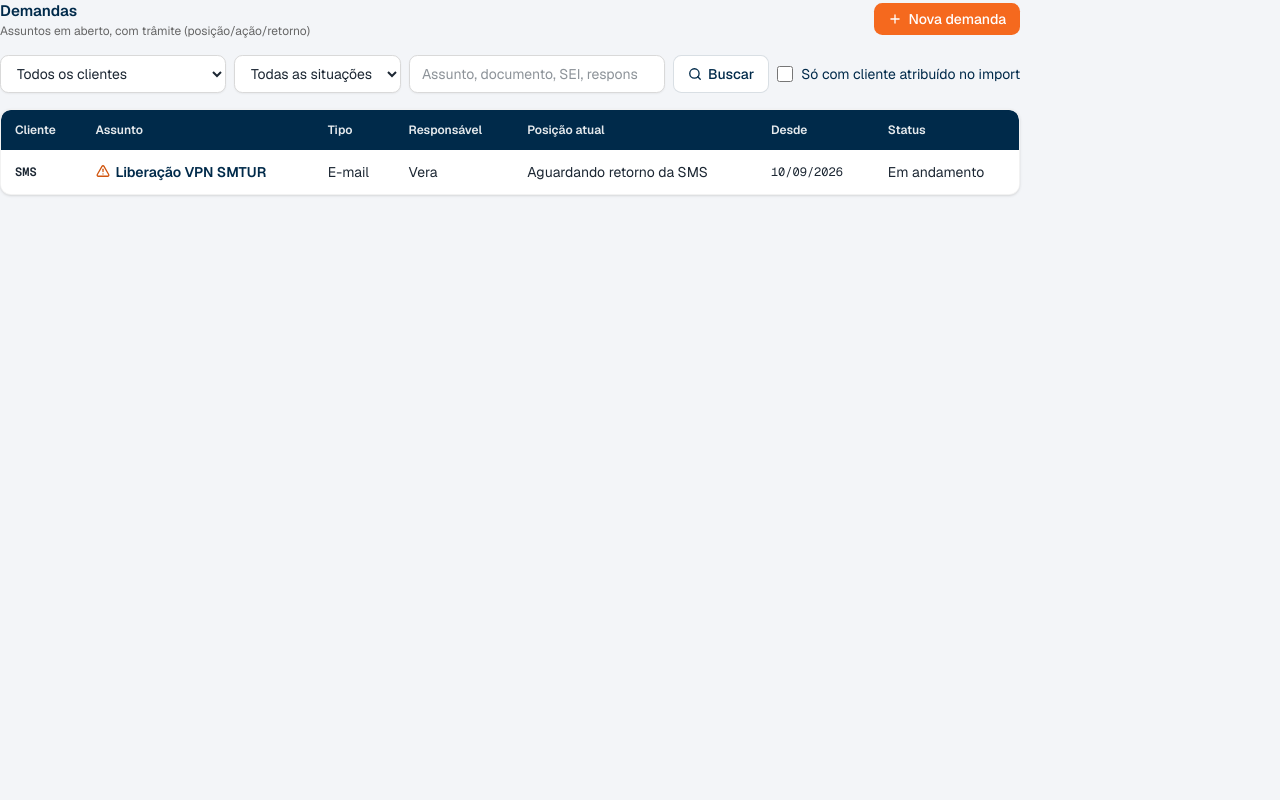
Test: ListaDemandas › na lista geral, a demanda nova pede o cliente e mostra erro da API
Click the button "Nova demanda". click: (947, 19)
box: [874, 3, 1020, 35]
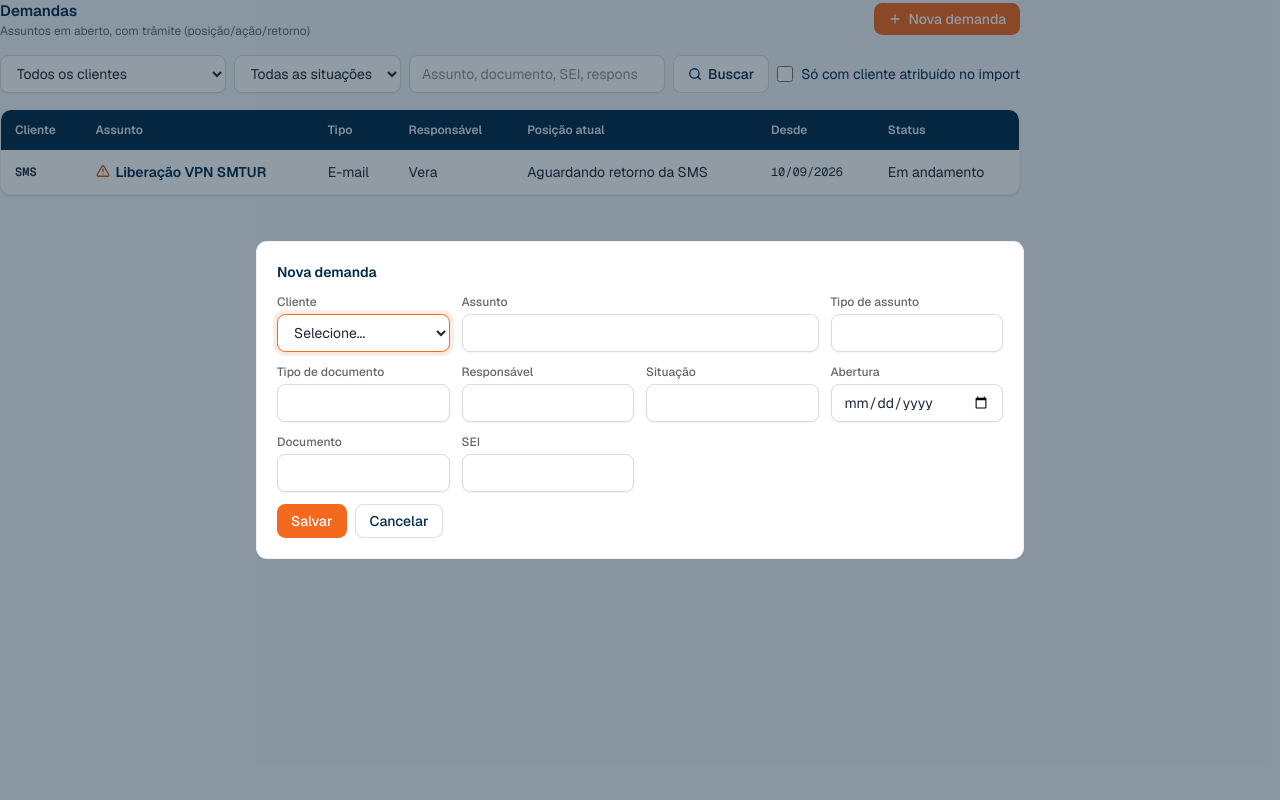
Select "SF — Secretaria da Fazenda" in the dropdown labelled "Cliente". click: (363, 333)
box: [277, 314, 450, 352]
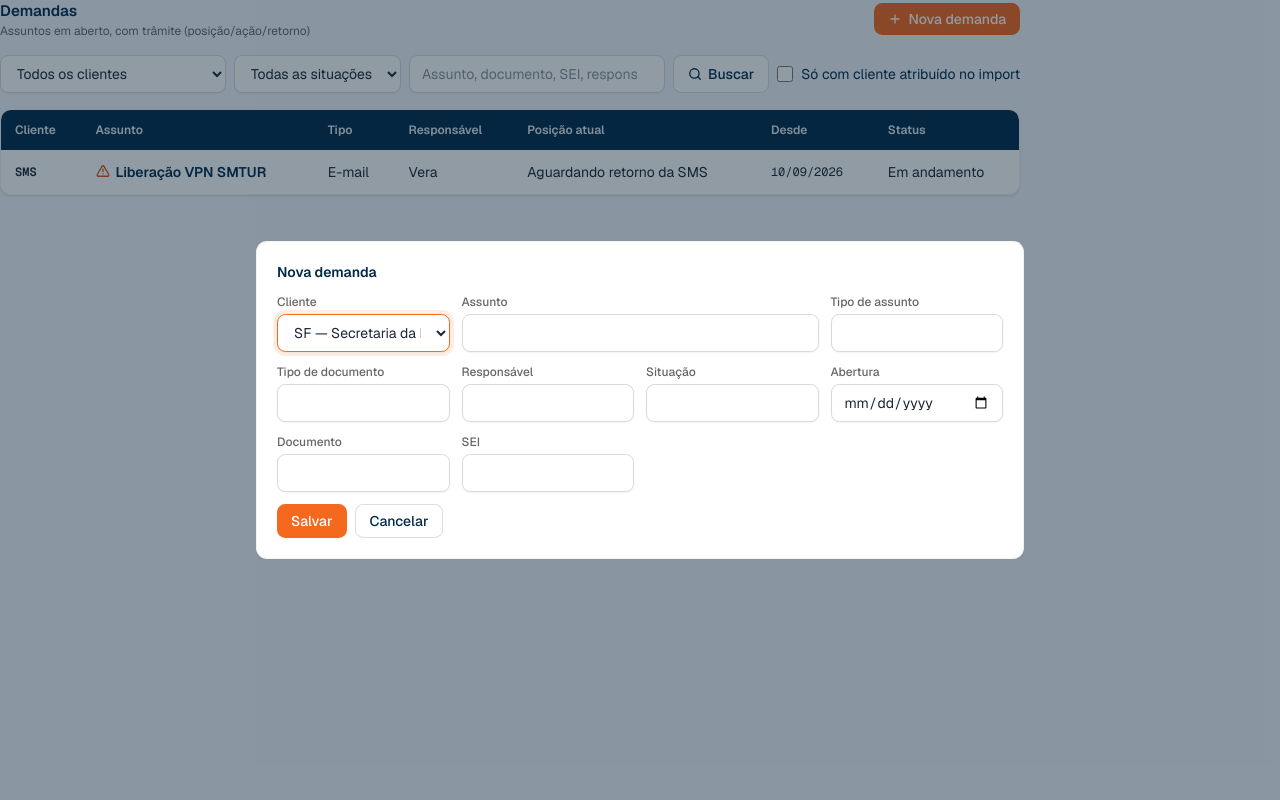
Type "X" into the field labelled "Assunto". click: (640, 333)
box: [462, 314, 818, 352]
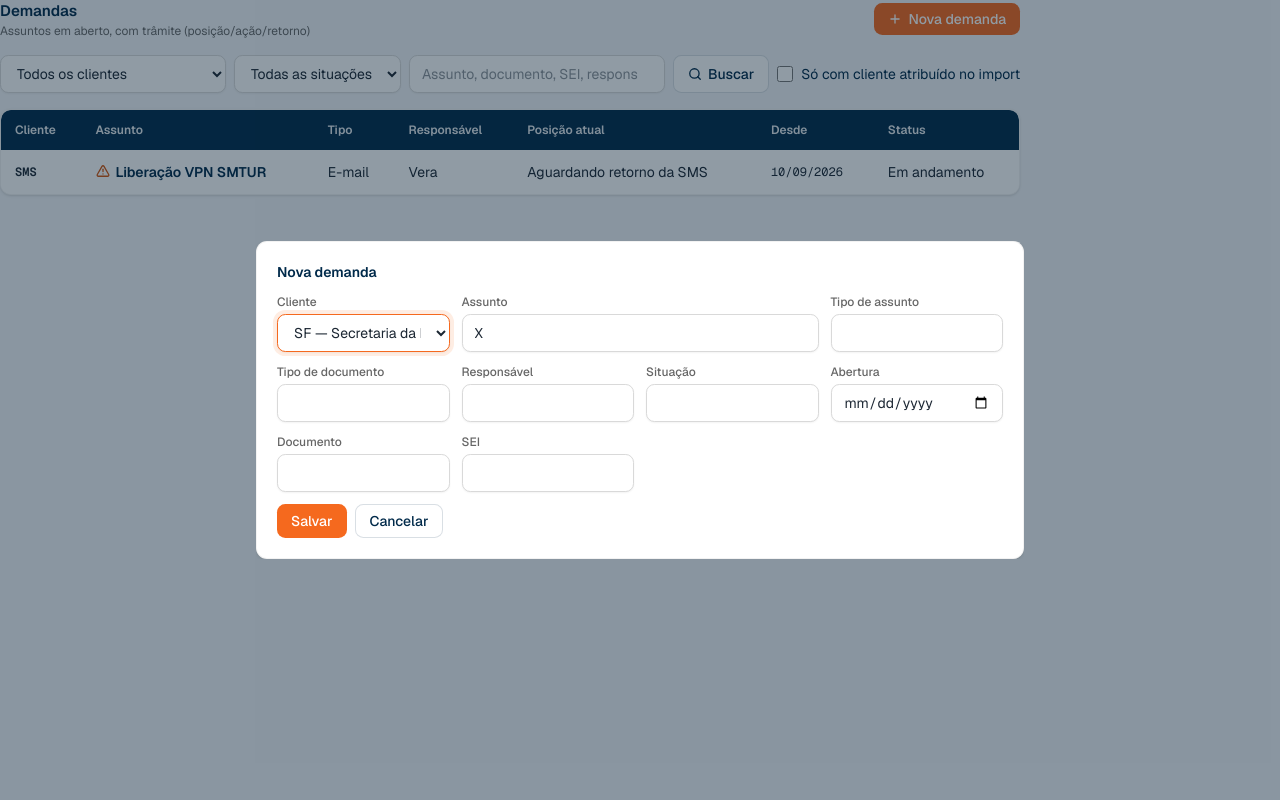
Click the button "Salvar". click: (312, 521)
box: [277, 504, 346, 538]
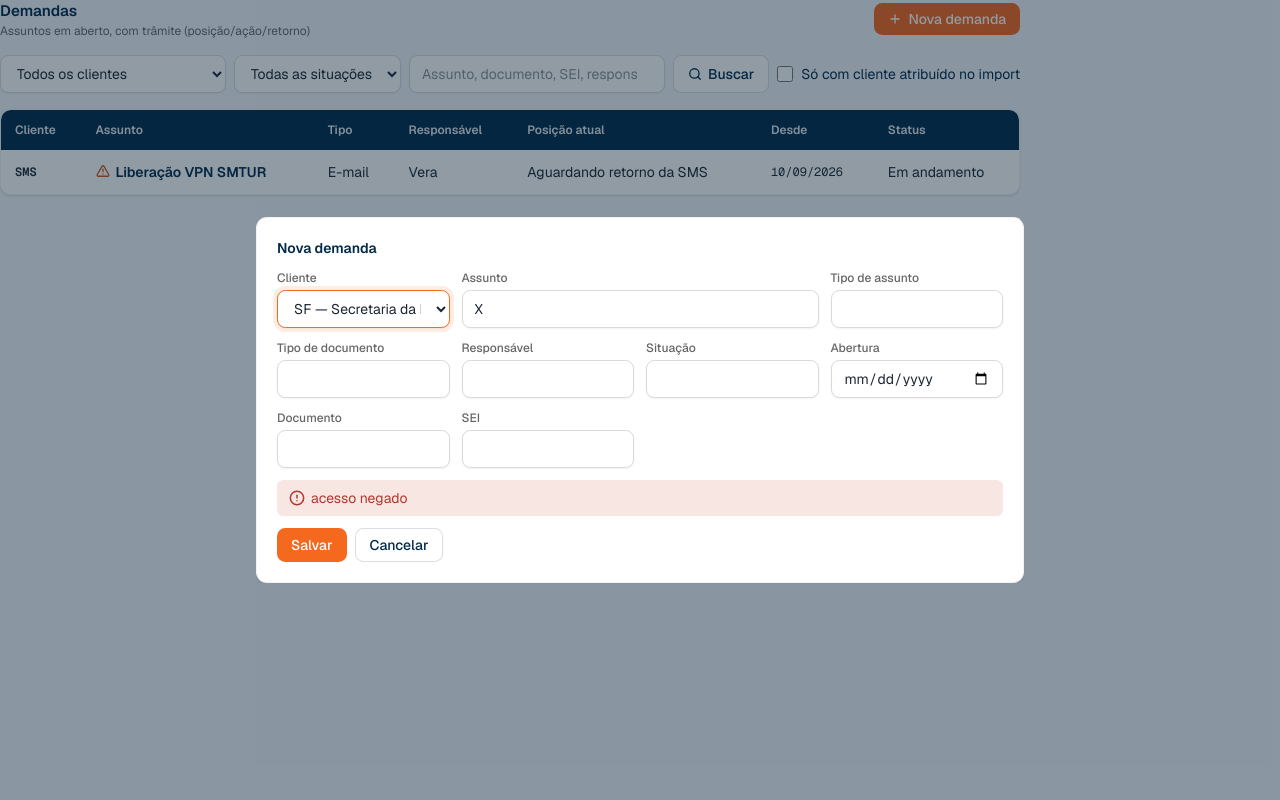
Expected: the text "acesso negado" is shown, [277, 480, 1003, 516]
